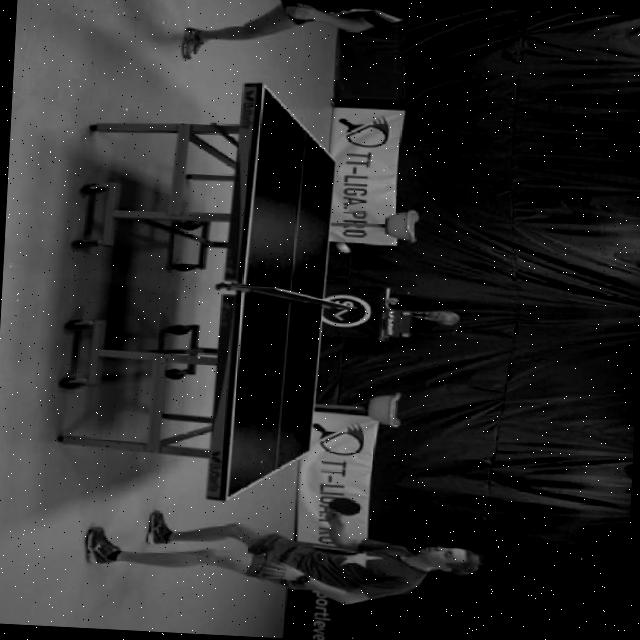ping-pong-ball: (331, 240, 354, 254)
